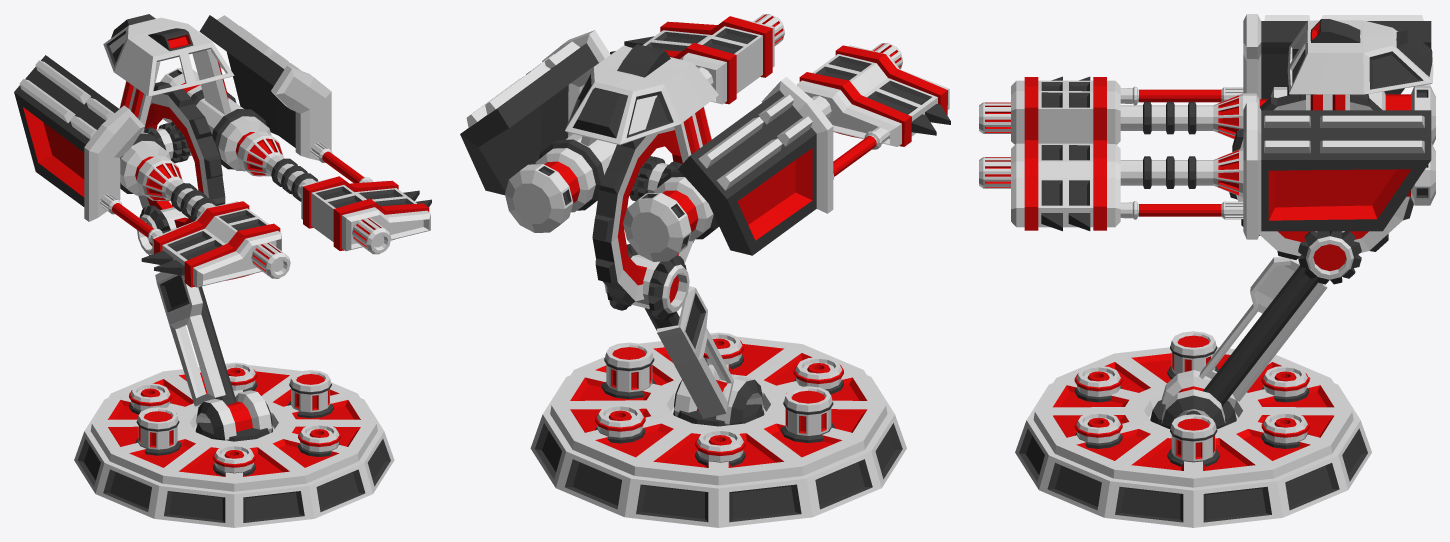
File: mid_tower1_2.fbx
3 renders of one model, left to right at view 1: azimuth 30°, elevation 25°; view 2: azimuth 150°, elevation 25°; view 3: azimuth 270°, elevation 25°, orthographic. The views are drawn at different scales.
Parts seen in each view (by area): view 1: polySurface185; view 2: polySurface185; view 3: polySurface185.
Boxes of the visible parts, x1,y1,x2,y2 form: polySurface185: (14, 14, 431, 527); polySurface185: (460, 14, 950, 527); polySurface185: (979, 14, 1435, 527).
Bounding box in the file's own units: 0.677 × 0.8918 × 0.8643.
